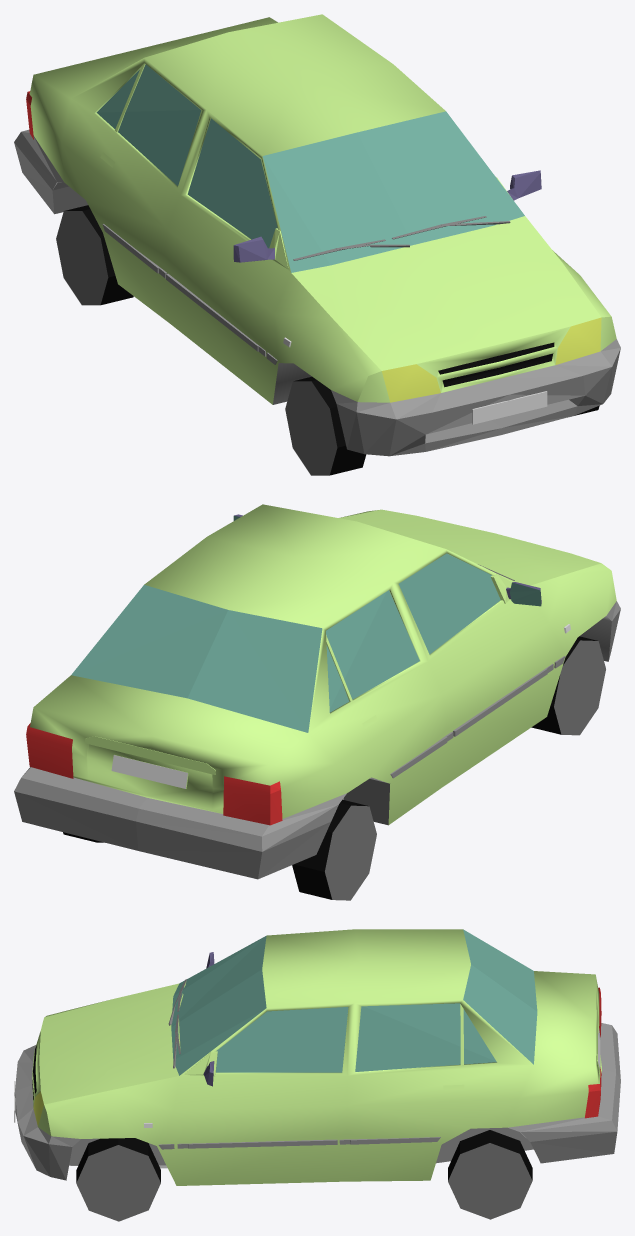
File: SedanBil.FBX
3 views of the same model, one above another, from view 1: azimuth 30°, elevation 25°; view 2: azimuth 150°, elevation 25°; view 3: azimuth 270°, elevation 25° (orthographic). The views are drawn at different scales.
Parts seen in each view (by area): view 1: Wheel3; view 2: Wheel3; view 3: Wheel3.
Part boxes in pixels (<box>): Wheel3: <box>14,14,620,475</box>; Wheel3: <box>14,504,620,900</box>; Wheel3: <box>14,929,620,1221</box>.
Bounding box in the file's own units: 176 × 139 × 370.
